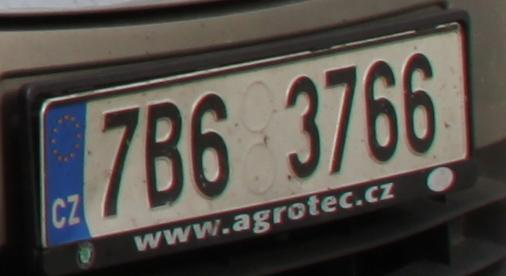3: (287, 73, 324, 180)
6: (191, 93, 234, 198), (365, 61, 398, 166), (401, 54, 435, 152)
7: (98, 107, 143, 221), (323, 65, 362, 175)
B: (144, 101, 186, 211)
